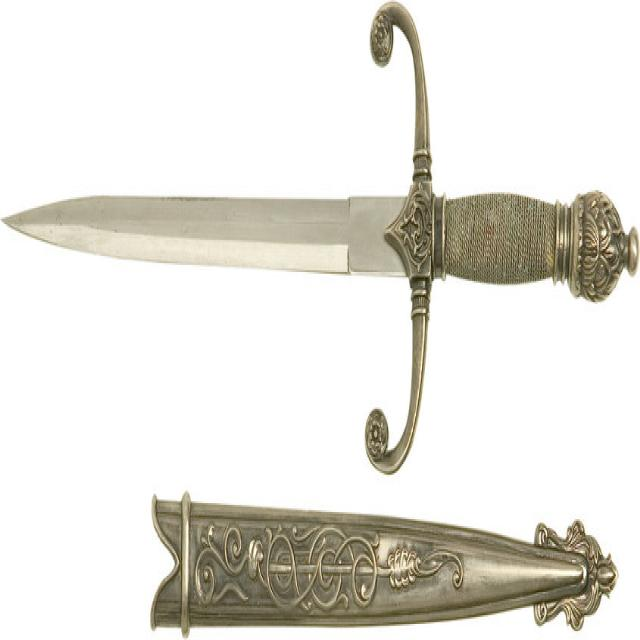Gun: (2, 0, 640, 478)
